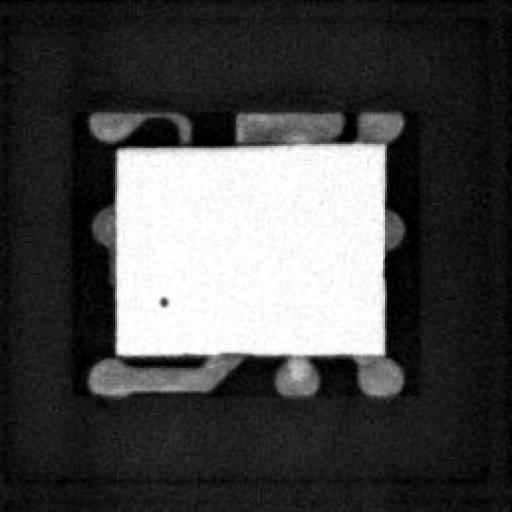DIE_INK: (146, 304, 161, 324)
